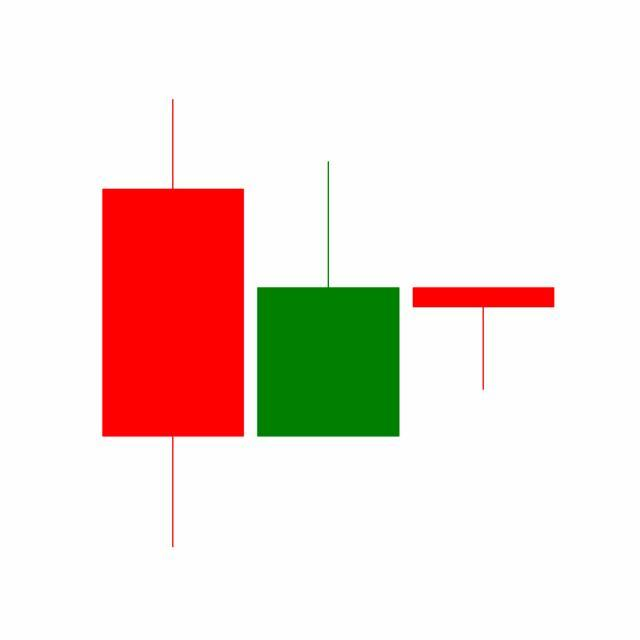Dragonfly Doji: (406, 286, 562, 391)
